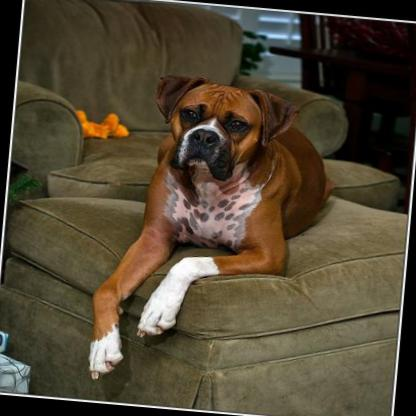boxer: (79, 66, 338, 402)
